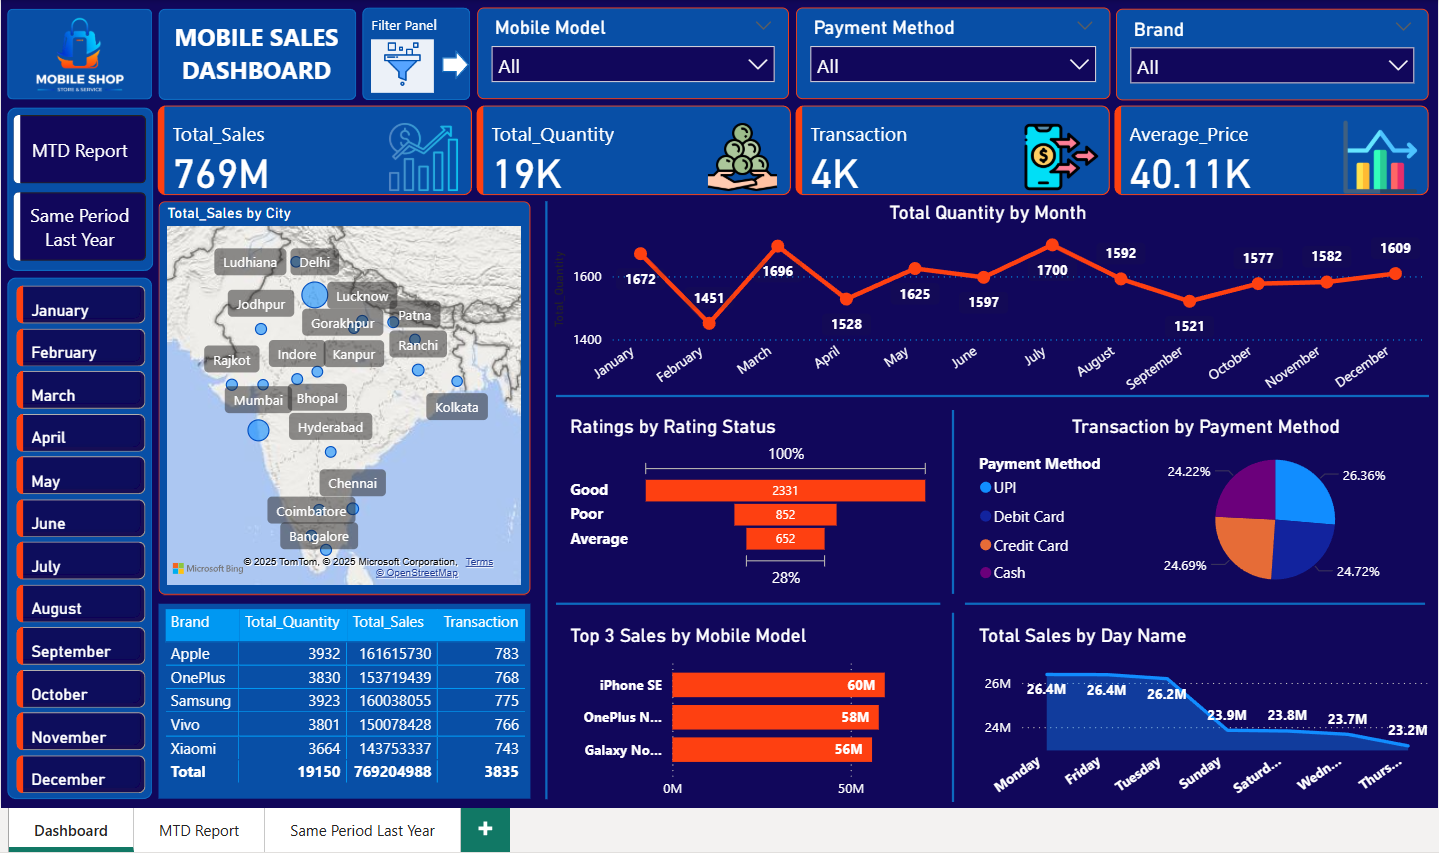

Layout of this report page (visuals, bound fields, positions):
{"tool":"powerbi","page":{"name":"Dashboard","canvas":[1280,720],"ordinal":0},"visuals":[{"type":"shape","box":[6,7.2,129.1,80.8],"z":0},{"type":"image","box":[13.3,0,113.3,103.3],"z":1000},{"type":"shape","box":[5.6,95.6,130,145.6],"z":2000},{"type":"shape","box":[6,247.3,129.1,464.5],"z":3000},{"type":"advancedSlicerVisual","fields":{"Values":["Custom_calendar.Date.Variation.Date Hierarchy.Month"]},"box":[8.4,249.7,125.5,463.3],"z":4000},{"type":"cardVisual","fields":{"Data":["mobile sales data.Total_Sales","mobile sales data.Total_Quantity","mobile sales data.Transaction","mobile sales data.Average_Price"]},"box":[135,88.8,1145,90],"z":5000},{"type":"slicer","title":"Mobile Model","fields":{"Values":["mobile sales data.Mobile Model"]},"box":[423.8,6.2,277.5,81.2],"z":6000},{"type":"slicer","fields":{"Values":["mobile sales data.Payment Method"]},"box":[707.5,6.2,280,81.2],"z":7000},{"type":"slicer","fields":{"Values":["mobile sales data.Brand"]},"box":[992.5,7.5,278.8,81.2],"z":8000},{"type":"shape","box":[321.2,6.2,96.2,82.5],"z":9000},{"type":"image","box":[330,32.5,56.2,50],"z":10000},{"type":"shape","box":[392.5,45,23.8,26.2],"z":11000},{"type":"textbox","box":[325,7.5,80,27.5],"z":12000},{"type":"shape","box":[140,7.5,176.2,81.2],"z":13000},{"type":"textbox","box":[137.5,13.8,178.8,70],"z":14000},{"type":"map","fields":{"Category":["mobile sales data.City"],"Size":["mobile sales data.Total_Sales"]},"box":[140,178.8,331.2,350],"z":15000},{"type":"lineChart","title":"Total Quantity by Month","fields":{"Category":["Custom_calendar.Date.Variation.Date Hierarchy.Month"],"Y":["mobile sales data.Total_Quantity"]},"box":[486.2,178.8,785,181.2],"z":16000},{"type":"funnel","title":" Ratings by Rating Status","fields":{"Y":["CountNonNull(mobile sales data.Customer Ratings)"],"Category":["mobile sales data.Rating Status"]},"box":[502.5,370,331.2,158.8],"z":17000},{"type":"pieChart","fields":{"Y":["mobile sales data.Transaction"],"Category":["mobile sales data.Payment Method"]},"box":[866.2,370,413.8,167.5],"z":18000},{"type":"clusteredBarChart","title":"Top 3 Sales by Mobile Model","fields":{"Y":["mobile sales data.Total_Sales"],"Category":["mobile sales data.Mobile Model"]},"box":[502.5,555,331.2,165],"z":19000},{"type":"areaChart","title":"Total Sales by Day Name","fields":{"Y":["mobile sales data.Total_Sales"],"Category":["Custom_calendar.Day Name"]},"box":[866.2,555,413.8,165],"z":20000},{"type":"tableEx","fields":{"Values":["mobile sales data.Brand","mobile sales data.Total_Quantity","mobile sales data.Total_Sales","mobile sales data.Transaction"]},"box":[140,537.5,331.2,173.8],"z":21000},{"type":"shape","box":[493.8,340,777.5,26.2],"z":22000},{"type":"shape","box":[493.8,517.5,342.5,40],"z":23000},{"type":"shape","box":[858.8,517.5,410,40],"z":24000},{"type":"shape","box":[831.2,365,32.5,163.8],"z":25000},{"type":"shape","box":[831.2,545,32.5,168.8],"z":26000},{"type":"shape","box":[477.5,178.8,16.2,532.5],"z":27000},{"type":"pageNavigator","box":[11.2,102.5,118.8,131.2],"z":27001}]}

Visuals, with their boxes on the page's 1280x720 design canvas (x1, y1, x2, y2). These are canvas units, not pixel positions in the 1439x853 screenshot, which may show the page scaled, cropped or inside an application window:
shape: (left=6, top=7, right=135, bottom=88)
image: (left=13, top=0, right=127, bottom=103)
shape: (left=6, top=96, right=136, bottom=241)
shape: (left=6, top=247, right=135, bottom=712)
advancedSlicerVisual - Custom_calendar.Date.Variation.Date Hierarchy.Month: (left=8, top=250, right=134, bottom=713)
cardVisual - mobile sales data.Total_Sales x mobile sales data.Total_Quantity: (left=135, top=89, right=1280, bottom=179)
"Mobile Model" slicer: (left=424, top=6, right=701, bottom=87)
slicer - mobile sales data.Payment Method: (left=708, top=6, right=988, bottom=87)
slicer - mobile sales data.Brand: (left=992, top=8, right=1271, bottom=89)
shape: (left=321, top=6, right=417, bottom=89)
image: (left=330, top=32, right=386, bottom=82)
shape: (left=392, top=45, right=416, bottom=71)
textbox: (left=325, top=8, right=405, bottom=35)
shape: (left=140, top=8, right=316, bottom=89)
textbox: (left=138, top=14, right=316, bottom=84)
map - mobile sales data.City x mobile sales data.Total_Sales: (left=140, top=179, right=471, bottom=529)
"Total Quantity by Month" lineChart: (left=486, top=179, right=1271, bottom=360)
" Ratings by Rating Status" funnel: (left=502, top=370, right=834, bottom=529)
pieChart - mobile sales data.Transaction x mobile sales data.Payment Method: (left=866, top=370, right=1280, bottom=538)
"Top 3 Sales by Mobile Model" clusteredBarChart: (left=502, top=555, right=834, bottom=720)
"Total Sales by Day Name" areaChart: (left=866, top=555, right=1280, bottom=720)
tableEx - mobile sales data.Brand x mobile sales data.Total_Quantity: (left=140, top=538, right=471, bottom=711)
shape: (left=494, top=340, right=1271, bottom=366)
shape: (left=494, top=518, right=836, bottom=558)
shape: (left=859, top=518, right=1269, bottom=558)
shape: (left=831, top=365, right=864, bottom=529)
shape: (left=831, top=545, right=864, bottom=714)
shape: (left=478, top=179, right=494, bottom=711)
pageNavigator: (left=11, top=102, right=130, bottom=234)
